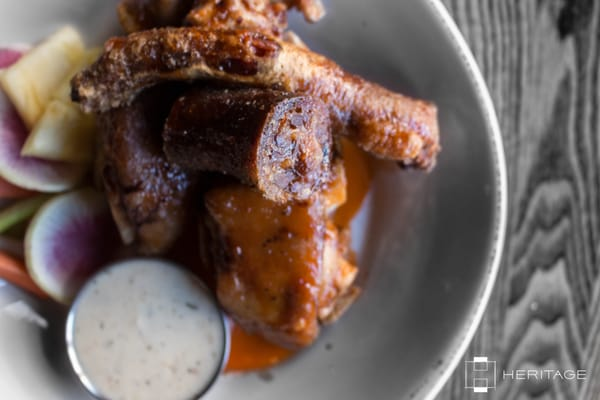salad: (65, 2, 442, 349), (199, 182, 359, 350)
